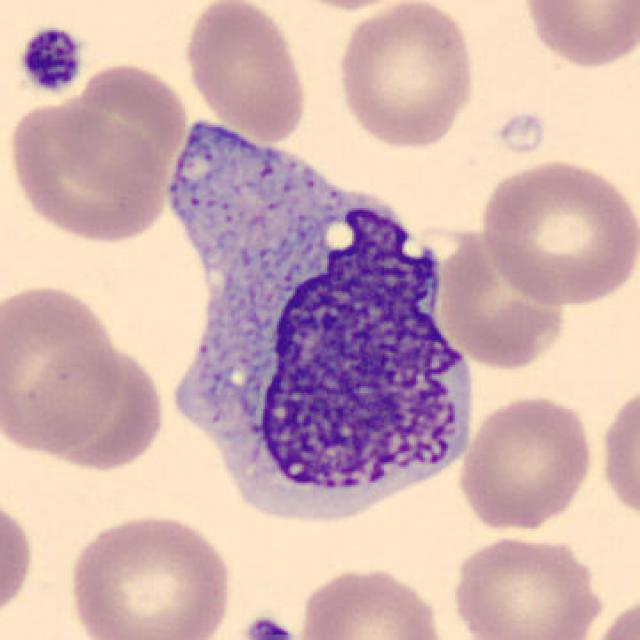Monocyte: (156, 120, 482, 538)
Platelets: (16, 23, 85, 97), (492, 108, 552, 160), (238, 613, 298, 640)
RBC: (473, 154, 640, 308), (3, 99, 170, 245), (62, 509, 236, 640), (332, 0, 480, 152), (0, 278, 123, 458), (453, 390, 598, 534), (20, 338, 170, 471), (50, 64, 191, 200), (181, 0, 311, 143), (436, 228, 566, 368), (446, 532, 608, 640), (294, 562, 452, 640), (518, 0, 638, 71), (595, 377, 640, 530), (0, 488, 37, 631), (585, 589, 640, 640), (273, 0, 419, 12)
